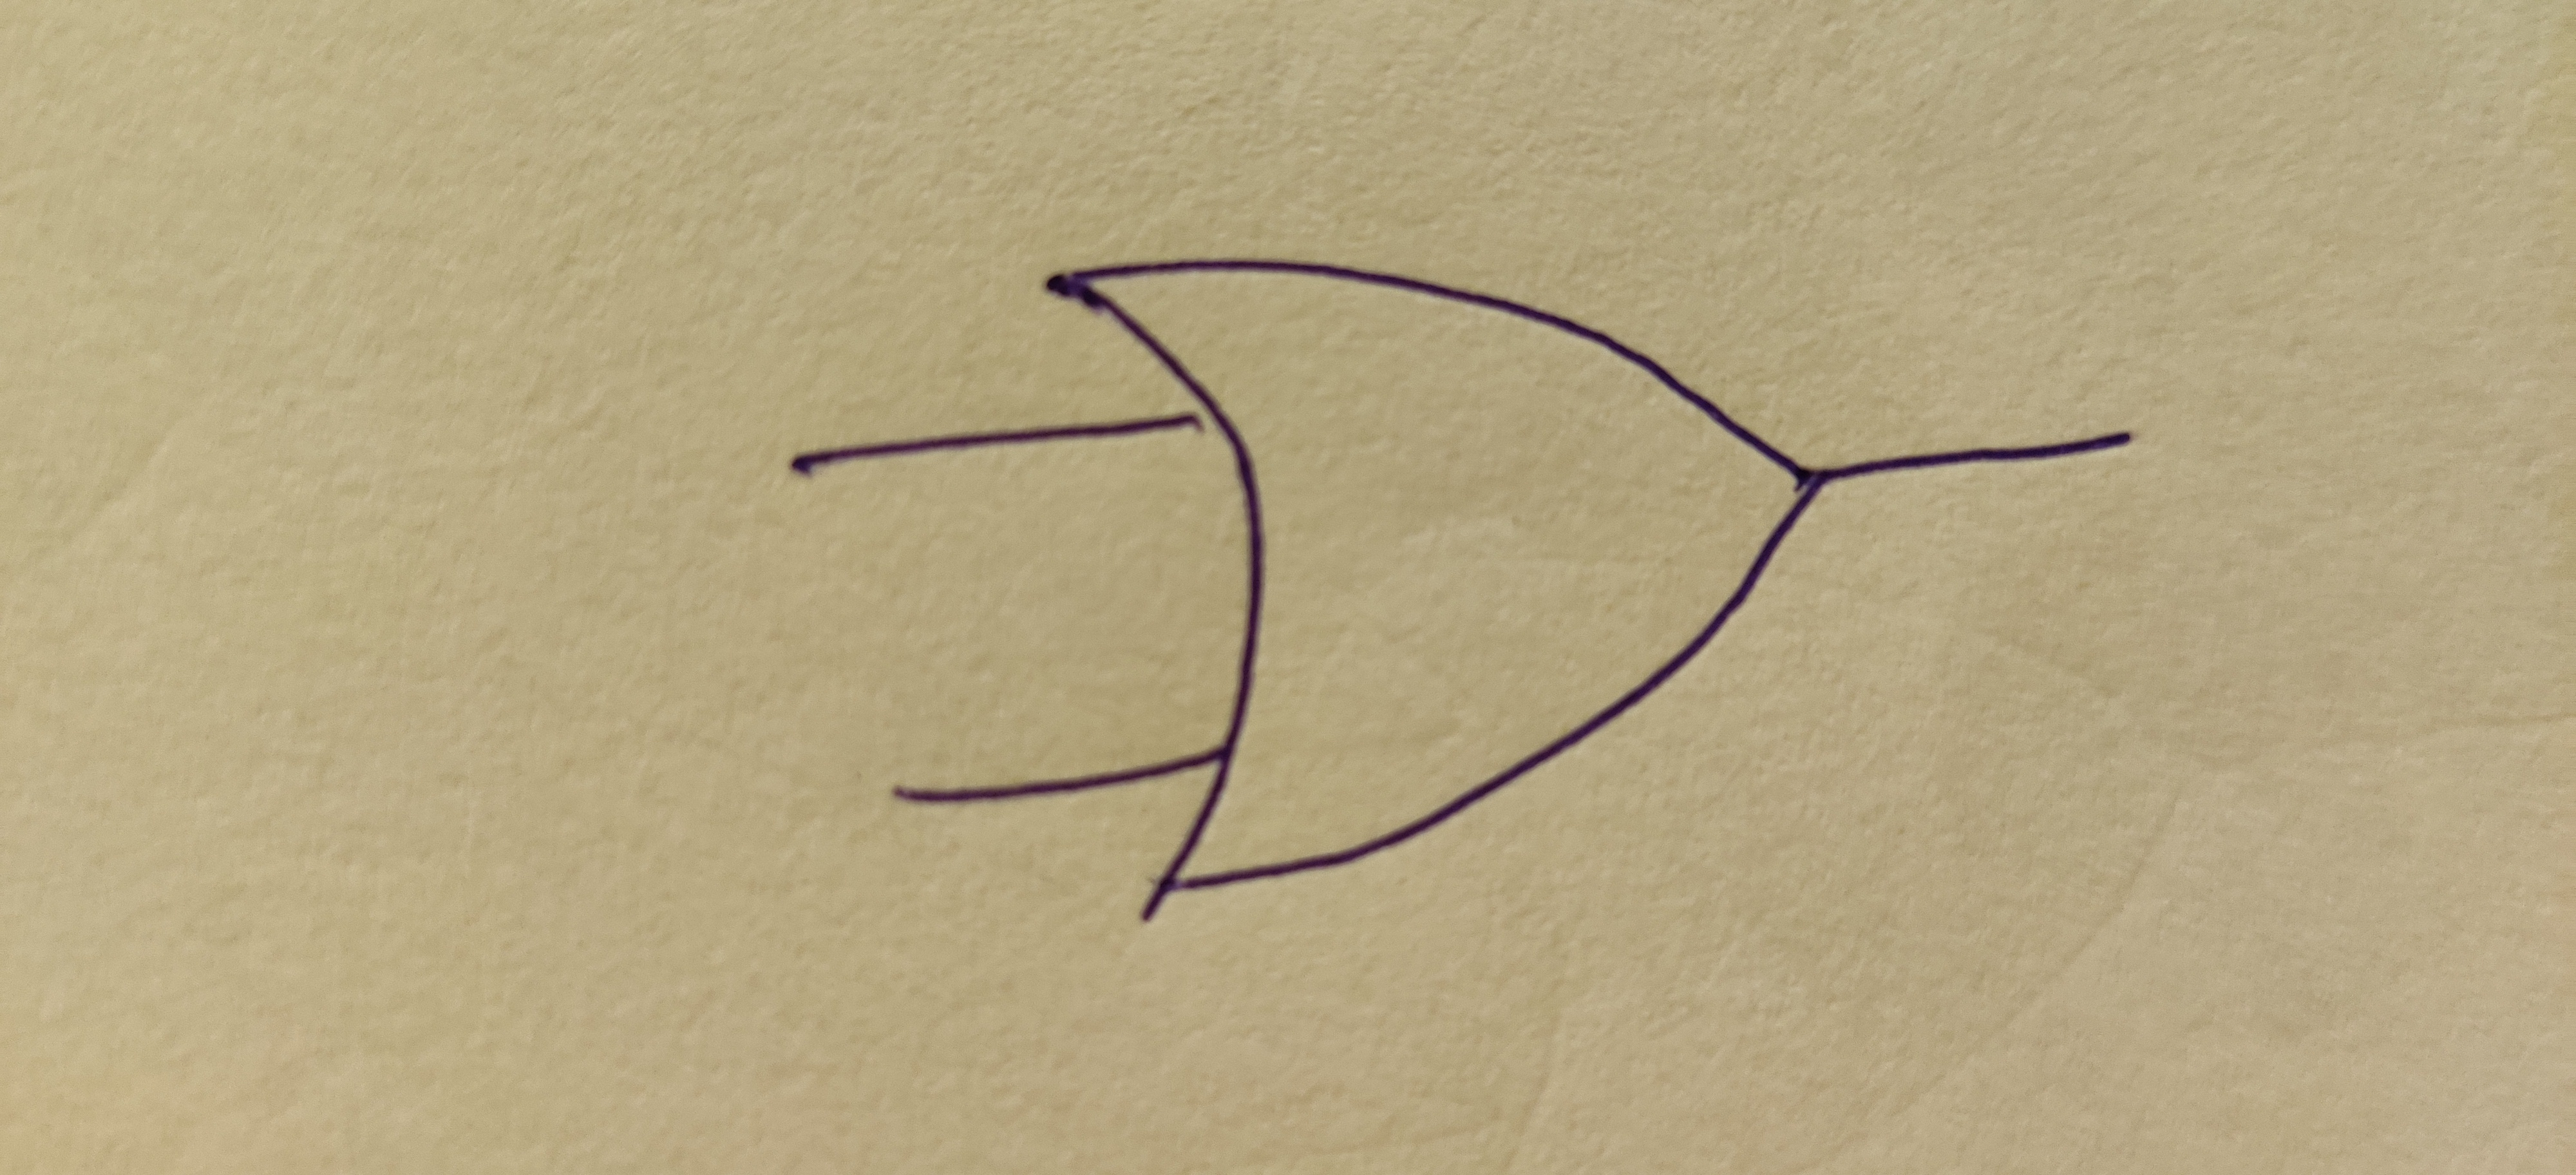or: (1051, 256, 1824, 889)
